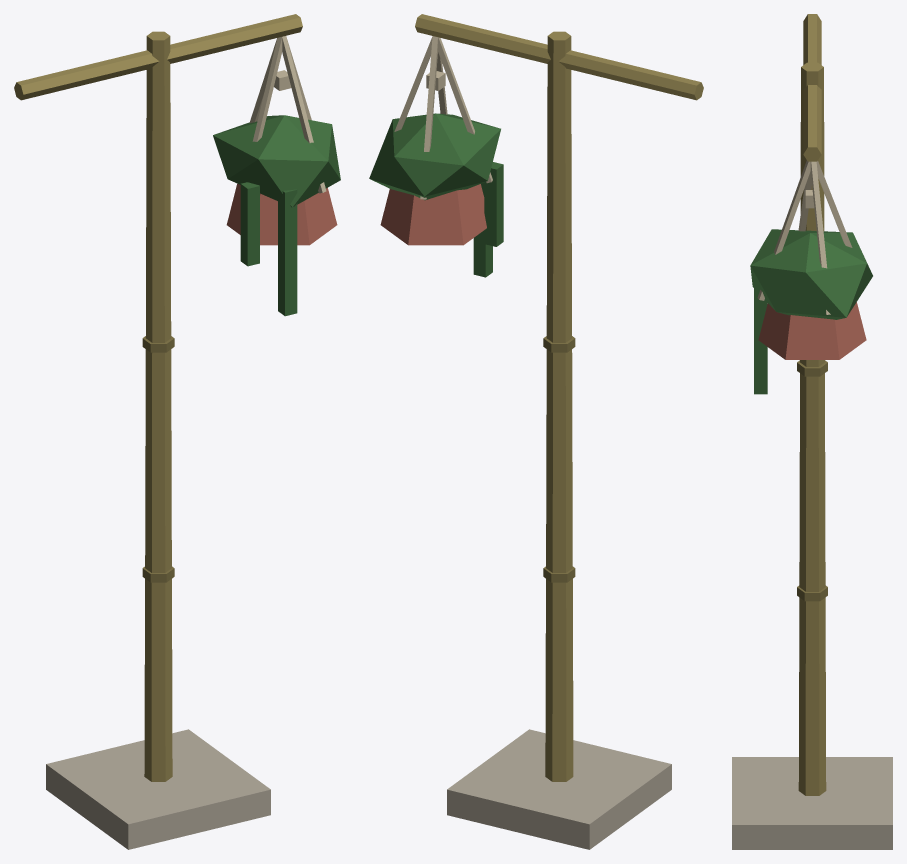
File: plant-hanger-11.glb
The picture shows the model from 3 angles, left to right: view 1: azimuth 30°, elevation 25°; view 2: azimuth 150°, elevation 25°; view 3: azimuth 270°, elevation 25°; orthographic projection. The views are drawn at different scales.
Parts seen in each view (by area): view 1: plant_hanger_11; view 2: plant_hanger_11; view 3: plant_hanger_11.
Part boxes in pixels (<box>): plant_hanger_11: <box>14,14,340,849</box>; plant_hanger_11: <box>369,14,703,849</box>; plant_hanger_11: <box>732,14,892,849</box>.
Bounding box in the file's own units: 0.7672 × 1.8 × 0.3499.
